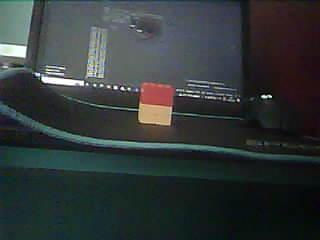lego: (138, 81, 174, 125)
